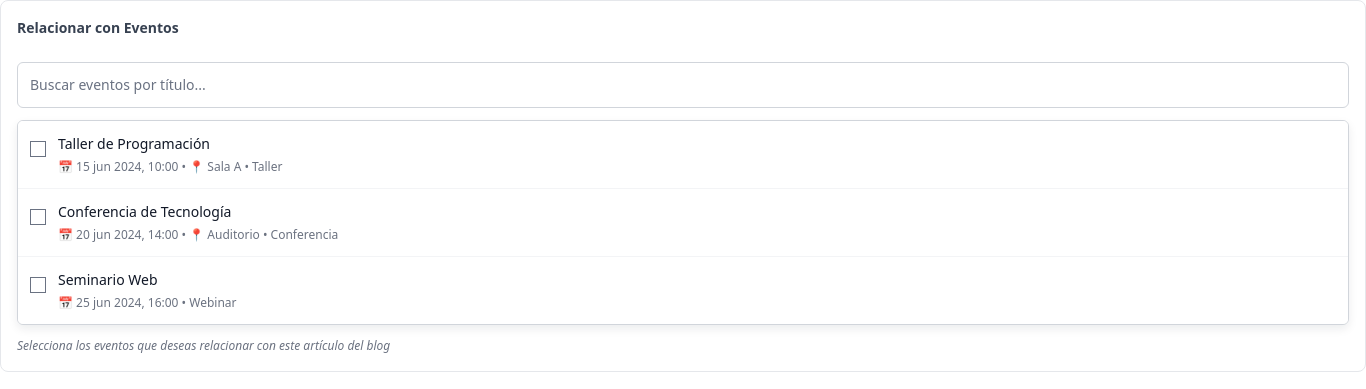
Scenario: BlogEventRelation › Search Functionality › should show empty state when no events match search
The width and height of the screenshot is (1366, 389).
Expected: the text "Taller de Programación" is shown, left=58, top=134, right=210, bottom=153
In the field with placeholder "Buscar eventos por título...": (683, 85) left=17, top=62, right=1349, bottom=108, type "NonExistentEvent"
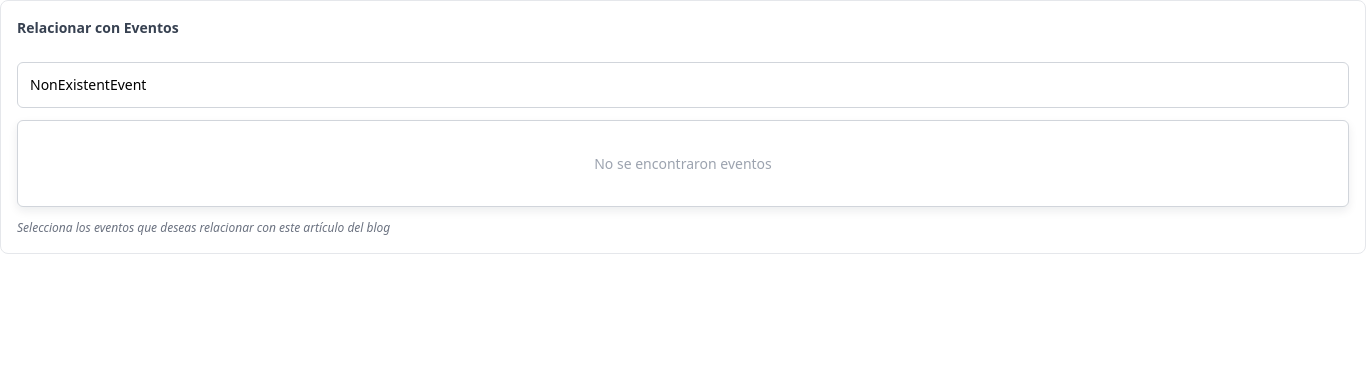
Expected: the element with class "dropdown" is shown, left=17, top=120, right=1349, bottom=207
Expected: the text "No se encontraron eventos" is shown, left=594, top=154, right=772, bottom=173
